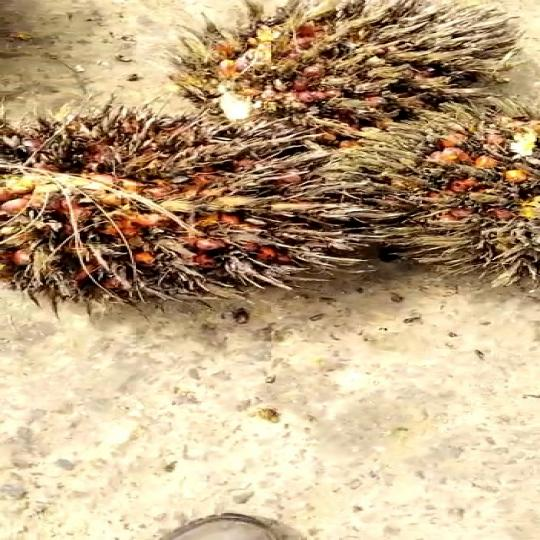terlalu masak: (0, 114, 390, 295), (165, 0, 520, 133), (315, 124, 538, 290)
